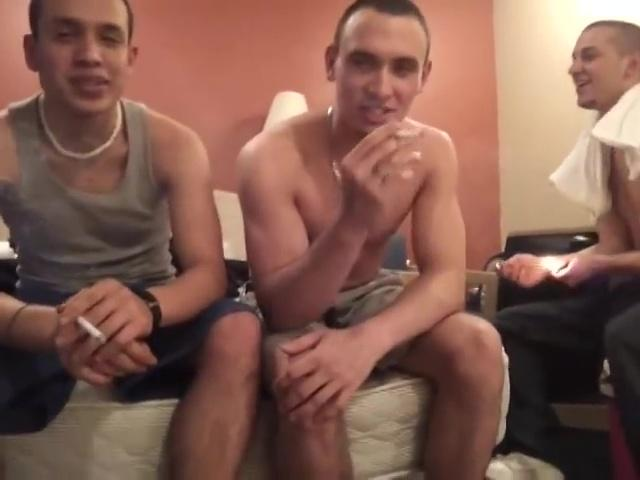cigarette: (72, 312, 109, 344), (394, 124, 432, 141)
